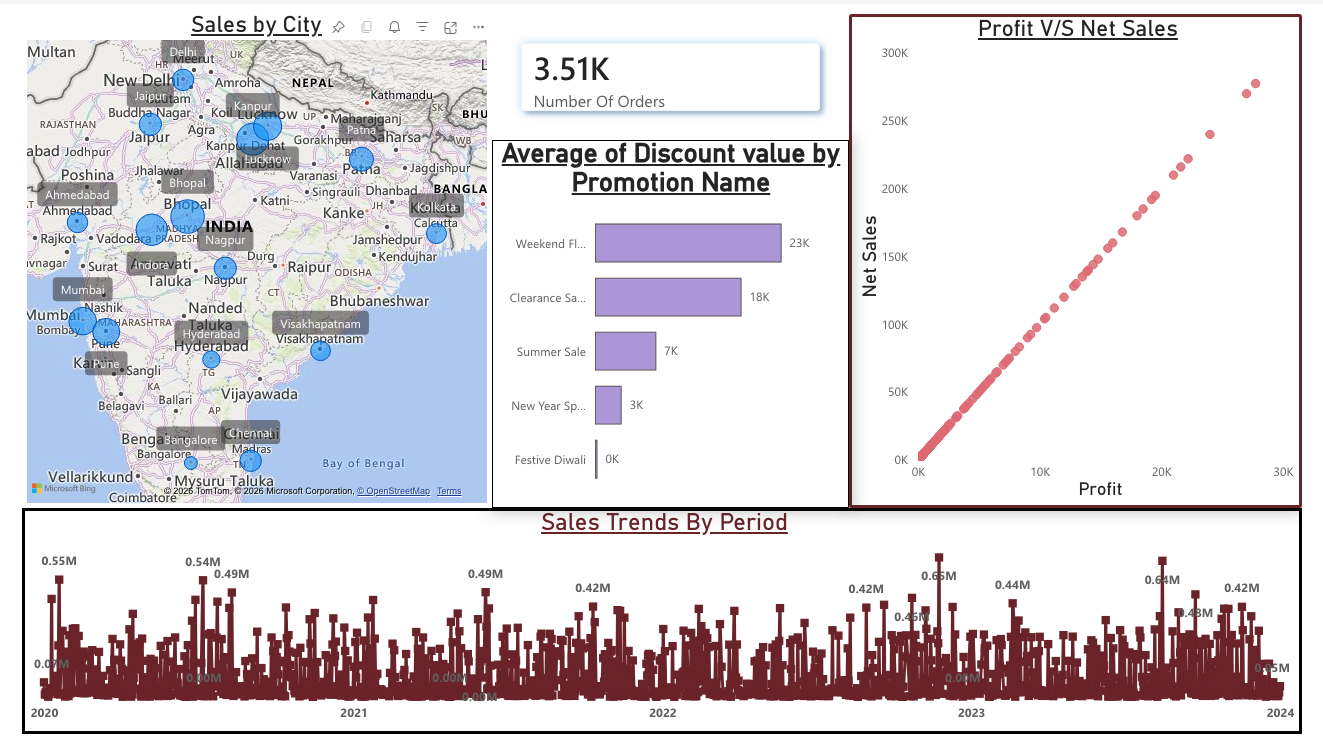

What the dashboard file says about the page in this screenshot:
{"tool":"powerbi","page":{"name":"Overview","canvas":[1280,720],"ordinal":0},"visuals":[{"type":"lineChart","title":"Sales Trends By Period","fields":{"Y":["Sum(Fact Table.Net Sales)"],"Category":["Fact Table.Date (dd/mm/yyyy).Variation.Date Hierarchy.Year"]},"box":[0,494,1280.3,226.2],"z":0},{"type":"scatterChart","title":"Profit V/S Net Sales","fields":{"X":["Fact Table.Profit"],"Y":["Fact Table.Net Sales"]},"box":[826.6,79.5,453.7,414.5],"z":1000},{"type":"barChart","fields":{"Y":["Avg(Fact Table.Discount value)"],"Category":["Dim Promotion.Promotion Name"]},"box":[469.6,227.4,357.1,266.6],"z":2000},{"type":"azureMap","title":"Sales by City","fields":{"Category":["Dim Customers.City"],"Size":["Sum(Fact Table.Net Sales)"]},"box":[0,79.5,469.6,414.5],"z":3000},{"type":"cardVisual","fields":{"Data":["Count(Fact Table.Order ID)"]},"box":[469.6,79.5,349.7,148],"z":4000},{"type":"shape","box":[0,0,1280.3,79.5],"z":5000}]}

Visuals, with their boxes in screenshot pixels (x1, y1, x2, y2), scaled from the page's 1280x720 canvas onto the 1323x745 screenshot:
"Sales Trends By Period" lineChart: <bbox>0, 511, 1322, 744</bbox>
"Profit V/S Net Sales" scatterChart: <bbox>854, 82, 1322, 511</bbox>
barChart - Avg(Fact Table.Discount value) x Dim Promotion.Promotion Name: <bbox>485, 235, 854, 511</bbox>
"Sales by City" azureMap: <bbox>0, 82, 485, 511</bbox>
cardVisual - Count(Fact Table.Order ID): <bbox>485, 82, 847, 235</bbox>
shape: <bbox>0, 0, 1322, 82</bbox>
